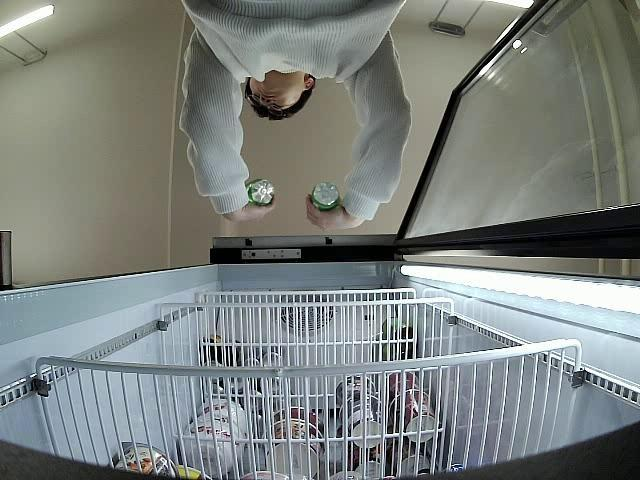18_trevi: (311, 179, 342, 212), (245, 177, 276, 208)
